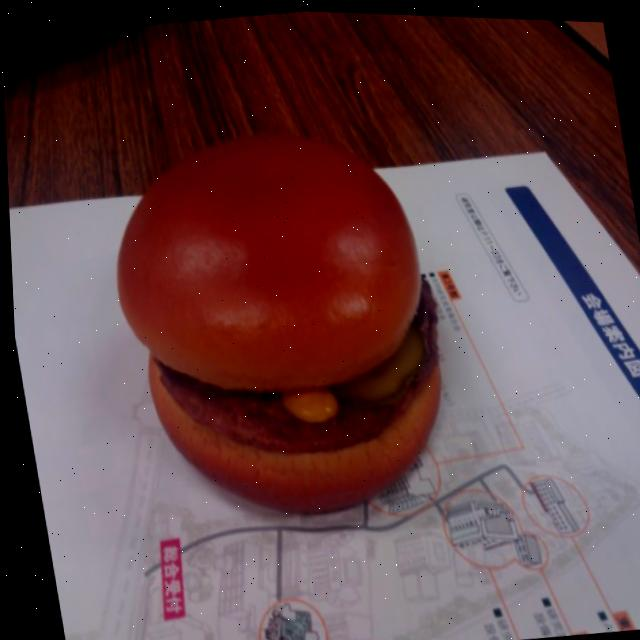汉堡快餐: (90, 102, 456, 528)
